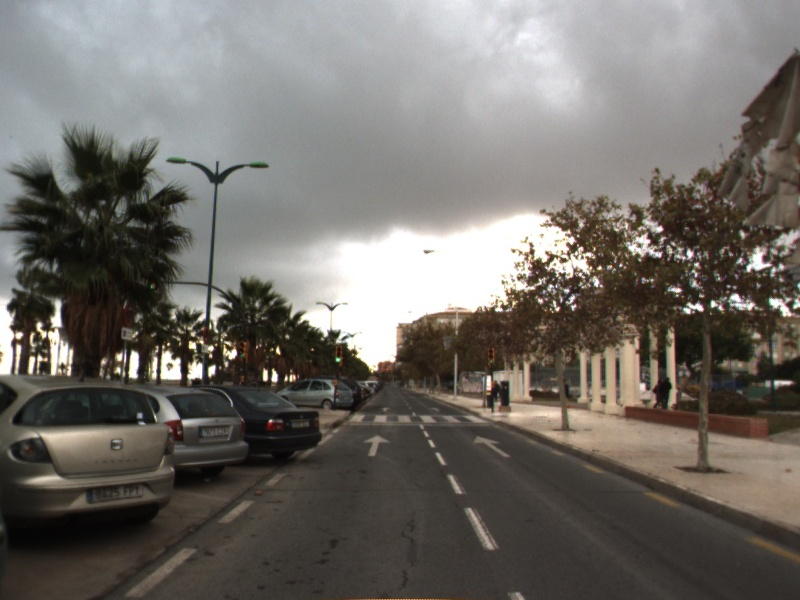STRAIGHT: (472, 434, 512, 459), (362, 433, 391, 457)
